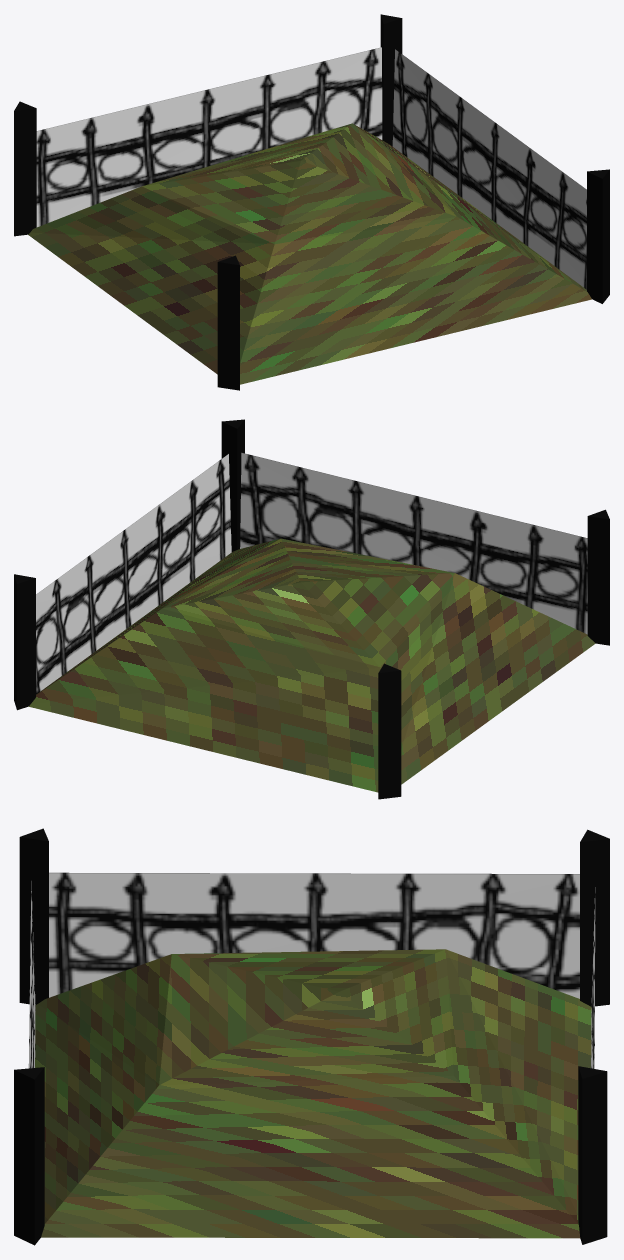
Rendered from Rabattl_1918.glb.
3 views of the same model, one above another, from view 1: azimuth 30°, elevation 25°; view 2: azimuth 150°, elevation 25°; view 3: azimuth 270°, elevation 25° (orthographic). The views are drawn at different scales.
Parts seen in each view (by area): view 1: pSphereShape1, pPlaneShape1, pPlaneShape4, pCylinderShape4, pCylinderShape3, pCylinderShape1, pCylinderShape2; view 2: pSphereShape1, pPlaneShape2, pPlaneShape4, pCylinderShape1, pCylinderShape4, pCylinderShape2, pCylinderShape3; view 3: pSphereShape1, pPlaneShape3, pCylinderShape3, pCylinderShape2, pCylinderShape1, pCylinderShape4, pPlaneShape2.
Part boxes in pixels (<box>): pSphereShape1: <box>28,123,591,384</box>; pPlaneShape1: <box>36,47,382,227</box>; pPlaneShape4: <box>392,49,586,289</box>; pCylinderShape4: <box>217,255,239,390</box>; pCylinderShape3: <box>587,169,609,303</box>; pCylinderShape1: <box>14,101,36,236</box>; pCylinderShape2: <box>380,14,402,146</box>; pSphereShape1: <box>29,538,595,792</box>; pPlaneShape2: <box>240,452,587,634</box>; pPlaneShape4: <box>36,454,231,694</box>; pCylinderShape1: <box>378,663,401,799</box>; pCylinderShape4: <box>587,509,609,645</box>; pCylinderShape2: <box>14,574,35,710</box>; pCylinderShape3: <box>221,419,244,551</box>; pSphereShape1: <box>35,949,591,1238</box>; pPlaneShape3: <box>49,872,579,998</box>; pCylinderShape3: <box>14,1067,44,1245</box>; pCylinderShape2: <box>578,1066,607,1244</box>; pCylinderShape1: <box>580,829,609,1006</box>; pCylinderShape4: <box>19,828,48,1004</box>; pPlaneShape2: <box>28,881,35,1068</box>.
Size of the model in its own units: 0.1809 by 0.0557 by 0.1814.
Materials: 9 (5 with a texture image).
